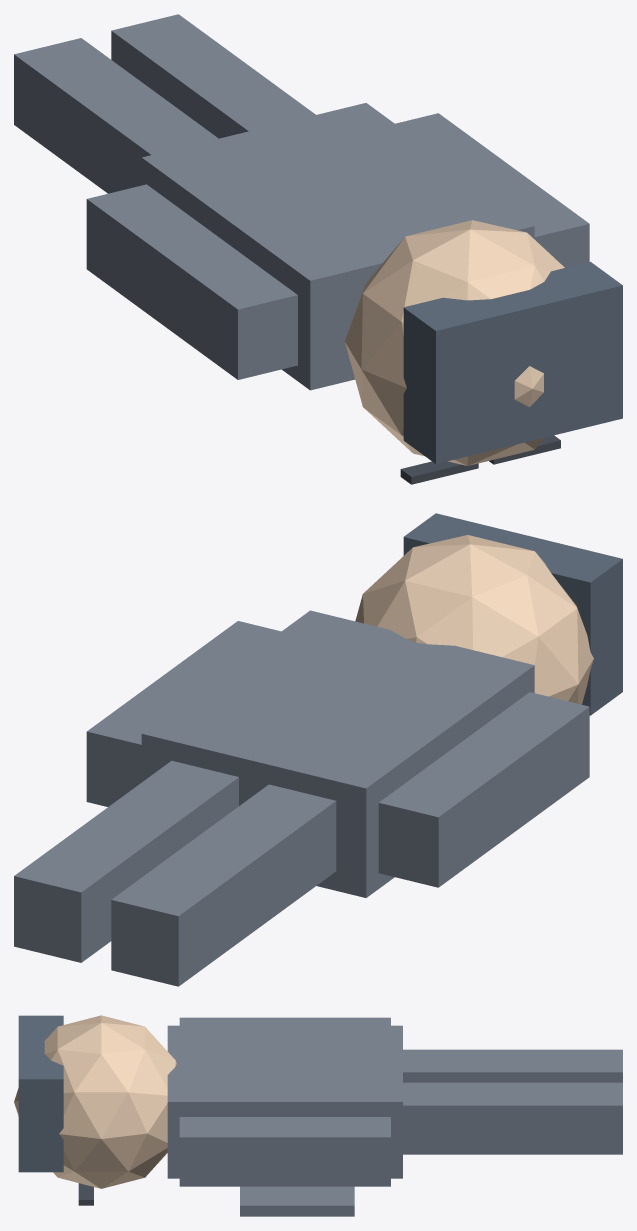
File: cfo.glb
The picture shows the model from 3 angles, top to bottom: view 1: azimuth 30°, elevation 25°; view 2: azimuth 150°, elevation 25°; view 3: azimuth 270°, elevation 25°; orthographic projection. The views are drawn at different scales.
Visible parts, largest first — view 1: torso, hair, arm_l, head, leg_l, leg_r, arm_r, glasses_l; view 2: torso, leg_l, arm_l, head, leg_r, hair, arm_r; view 3: torso, head, leg_r, arm_r, leg_l, hair, tablet, arm_l, glasses_r.
Boxes of the visible parts, box(x1,y1,x2,y2) form: torso: box(141, 103, 534, 390); hair: box(403, 261, 622, 463); arm_l: box(86, 184, 297, 379); head: box(345, 220, 564, 465); leg_l: box(14, 38, 218, 193); leg_r: box(111, 14, 315, 138); arm_r: box(395, 113, 589, 267); glasses_l: box(400, 461, 478, 484); torso: box(141, 610, 534, 897); leg_l: box(111, 784, 336, 986); arm_l: box(378, 692, 589, 887); head: box(355, 535, 593, 704); leg_r: box(14, 760, 238, 962); hair: box(403, 513, 622, 715); arm_r: box(86, 621, 281, 806); torso: box(167, 1025, 402, 1178); head: box(14, 1015, 176, 1188); leg_r: box(403, 1082, 622, 1154); arm_r: box(179, 1117, 390, 1186); leg_l: box(403, 1049, 622, 1082); hair: box(18, 1015, 63, 1172); tablet: box(240, 1186, 354, 1216); arm_l: box(179, 1017, 390, 1025); glasses_r: box(78, 1183, 93, 1205).
Size of the model in its own units: 0.94 by 0.58 by 2.02.
